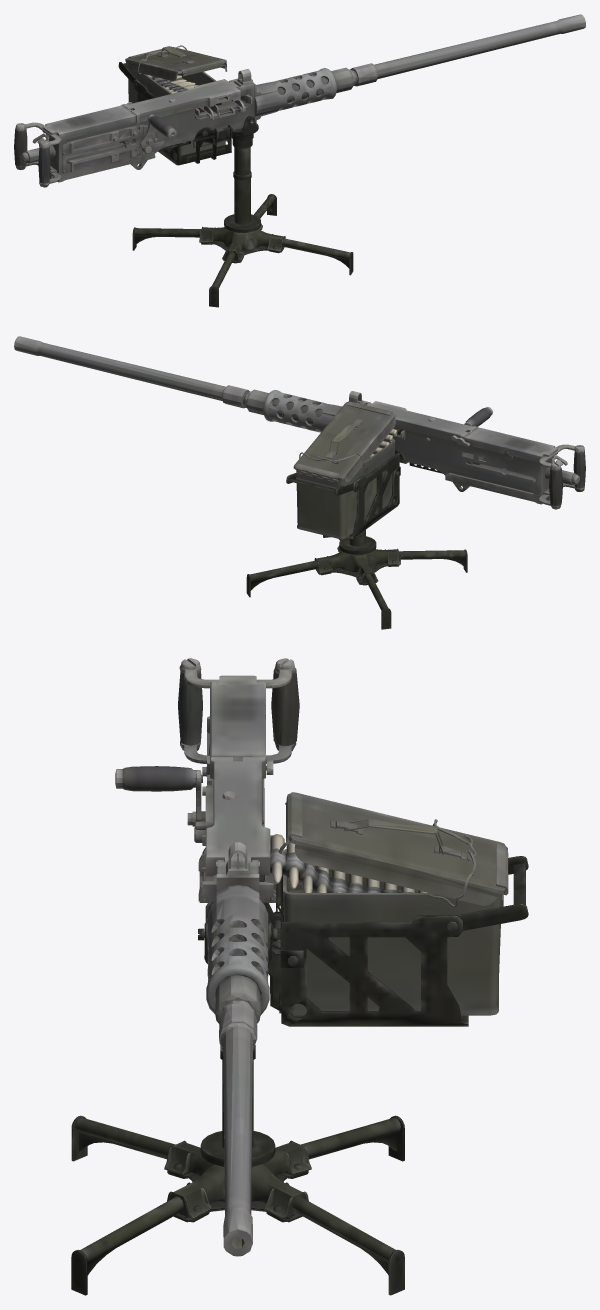
The model's file is SK_DefenseFacilityModern_279b3b.glb.
3 renders of one model, top to bottom at view 1: azimuth 30°, elevation 25°; view 2: azimuth 150°, elevation 25°; view 3: azimuth 270°, elevation 25°, orthographic. The views are drawn at different scales.
Size of the model in its own units: 3.3 by 1.09 by 1.17.
1 material, 1 textured.
